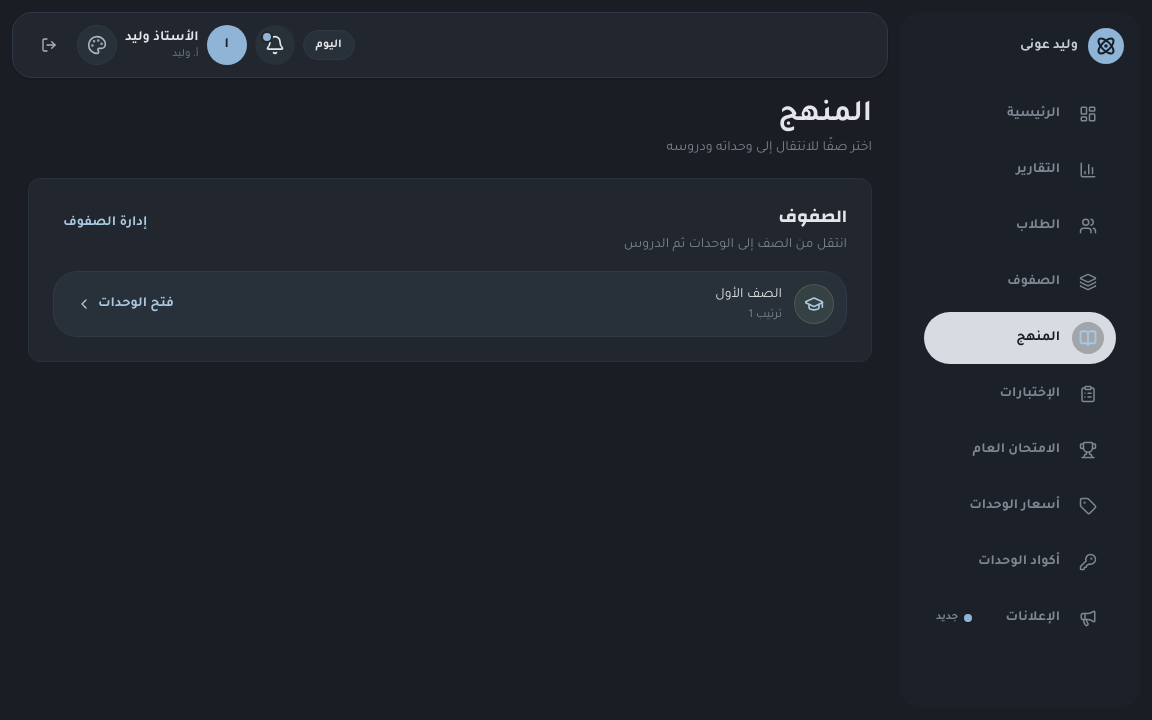
Test: CurriculumPage › drills from a grade to its units, filtering soft-deleted ones
The width and height of the screenshot is (1152, 720).
Click the link "فتح الوحدات": click(125, 304) [76,296,174,312]
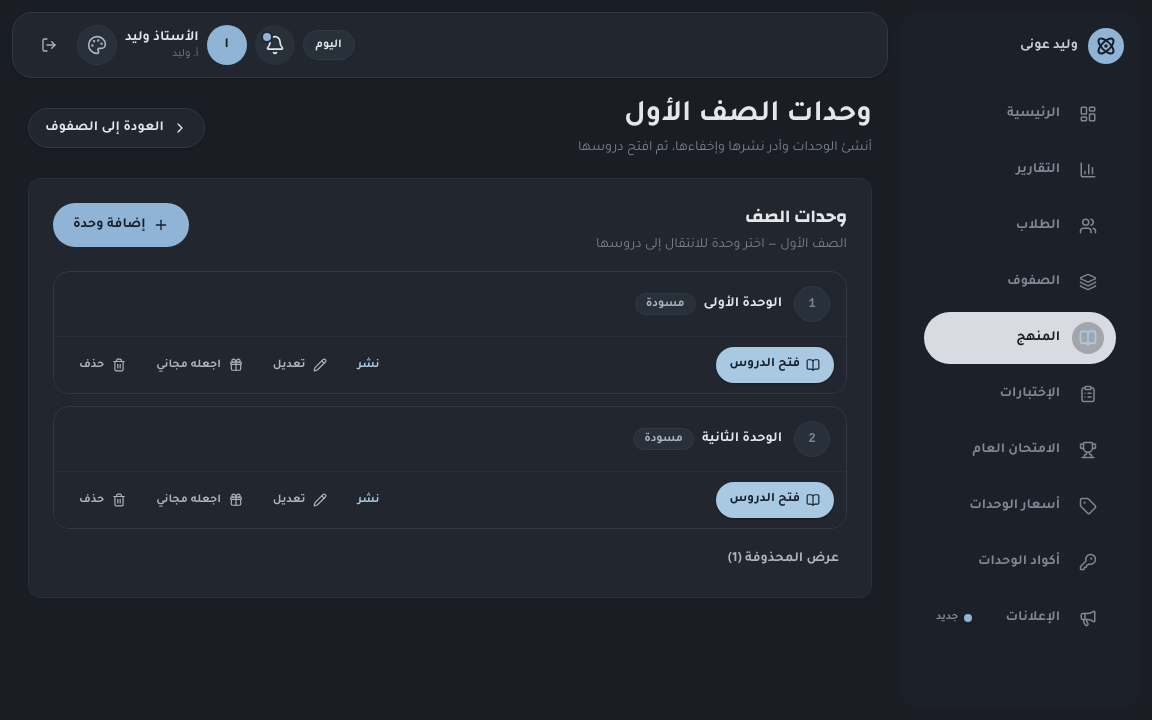
Expected: the list item with test id "unit-row-unit-1" is shown, [53,271,847,394]
Expected: the list item with test id "unit-row-unit-2" is shown, [53,406,847,529]
